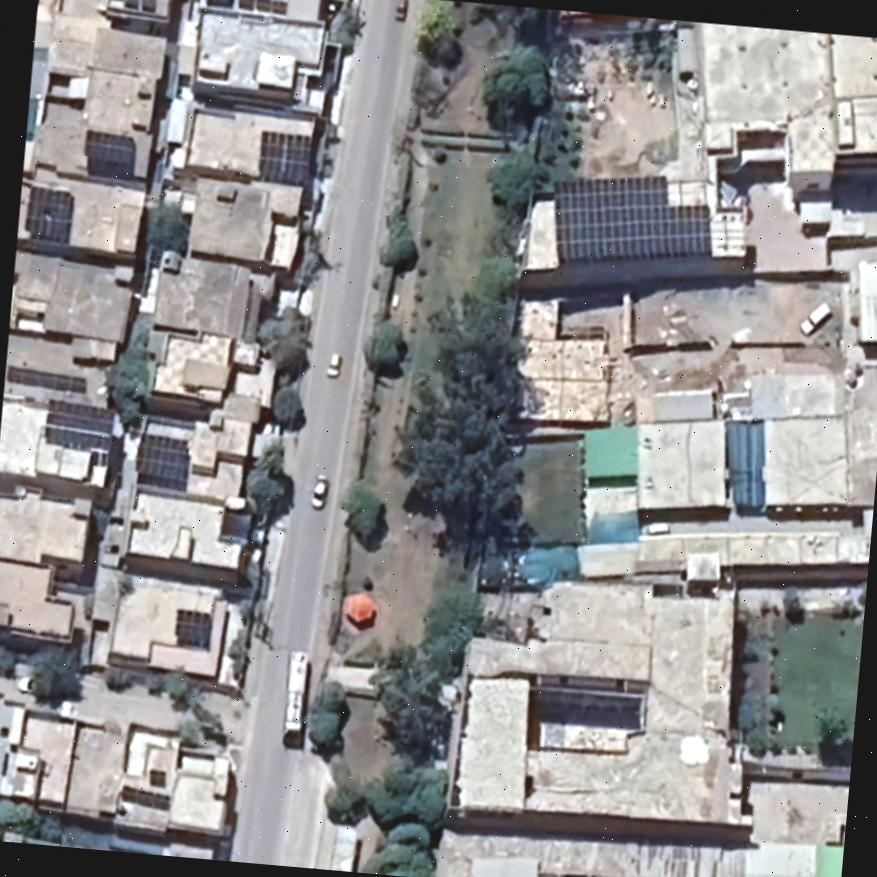Solarpanel: (549, 175, 724, 265), (22, 181, 80, 253), (46, 397, 118, 455), (254, 125, 317, 190), (129, 429, 193, 487), (80, 124, 140, 170), (170, 602, 214, 648), (237, 0, 292, 17), (108, 0, 156, 9)
